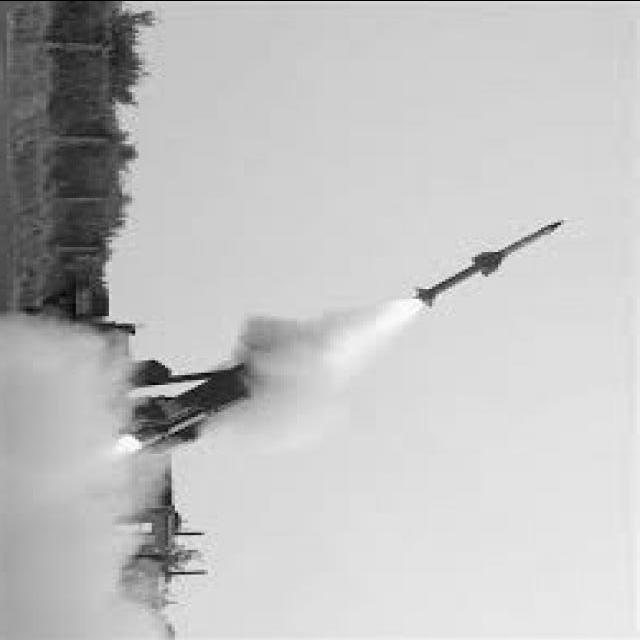Missile: (407, 213, 567, 312)
